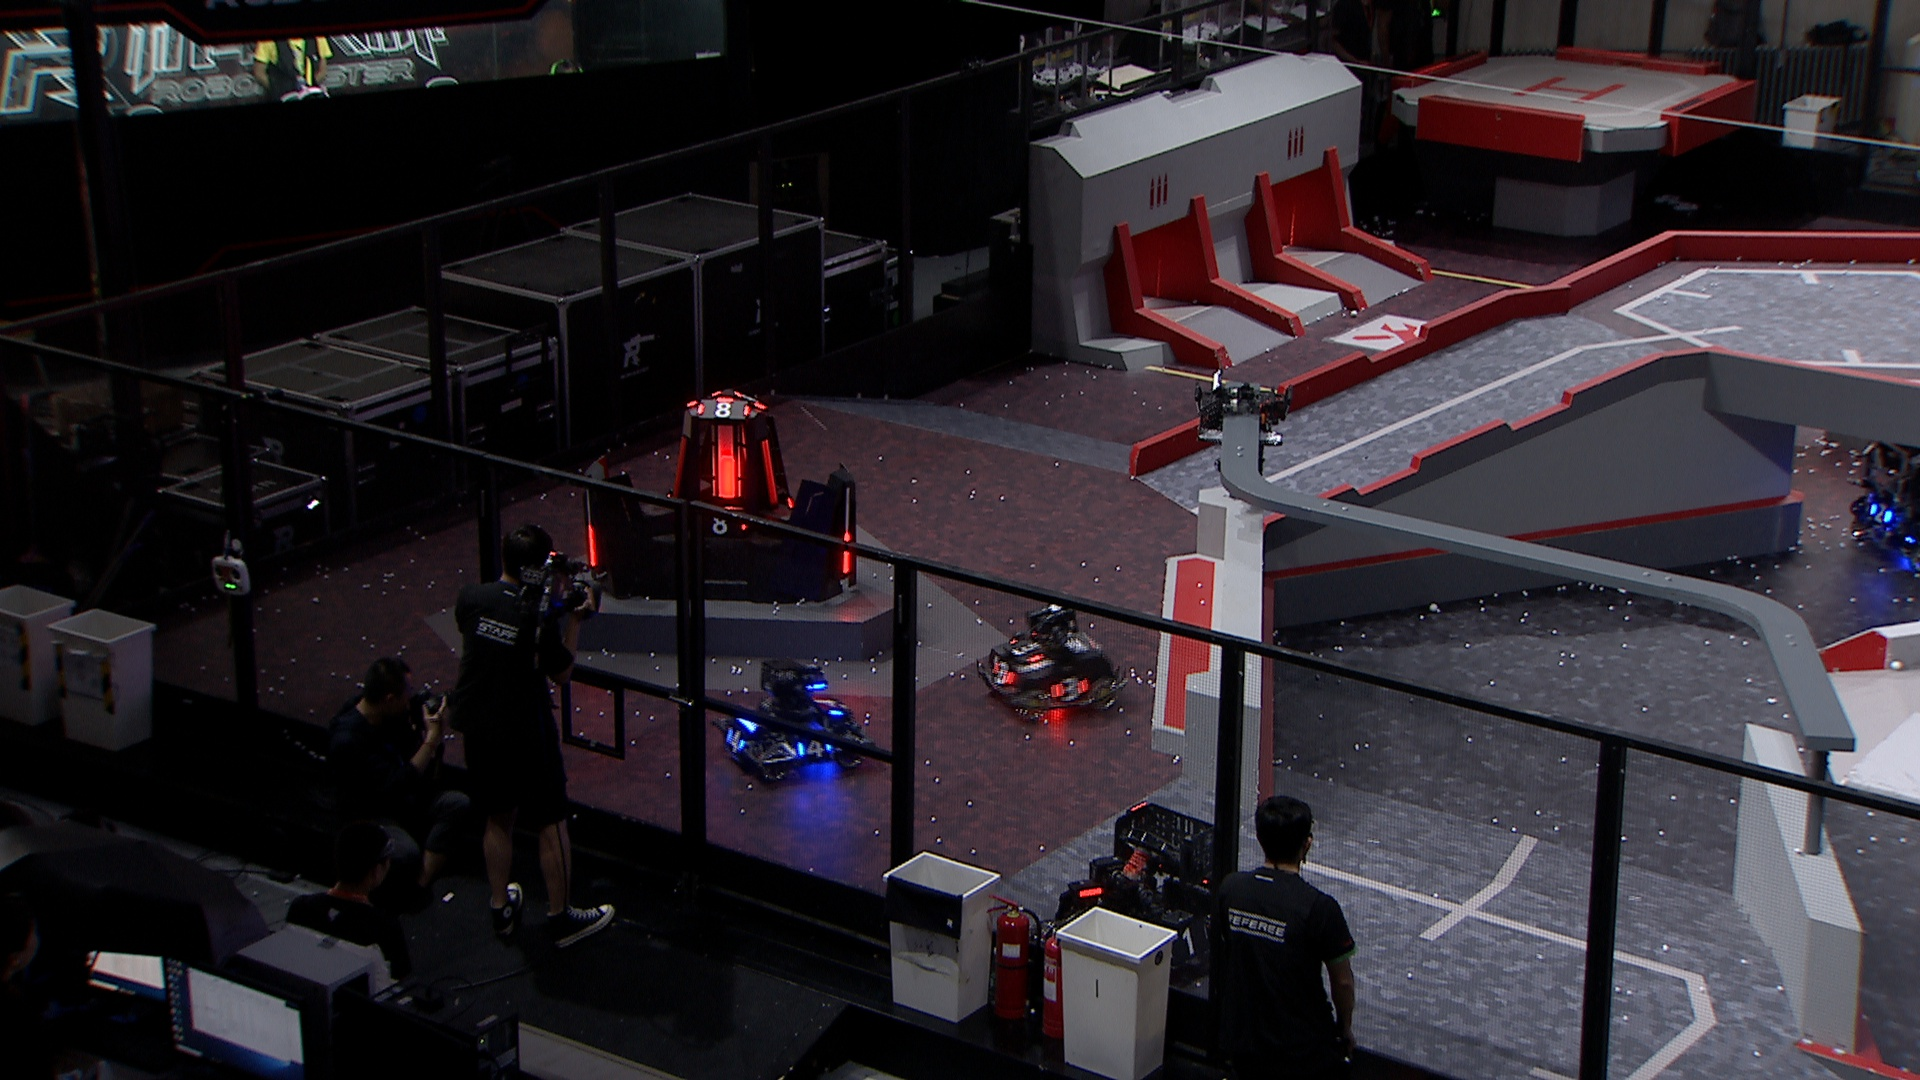armor: (1168, 920, 1212, 957), (713, 455, 741, 501), (760, 438, 778, 506), (699, 514, 746, 535), (670, 433, 684, 500), (695, 400, 746, 418), (1010, 632, 1043, 659), (1050, 678, 1087, 699), (814, 694, 841, 719), (989, 659, 1011, 687), (796, 737, 829, 756), (584, 522, 596, 568), (1866, 500, 1894, 520), (724, 727, 744, 752), (841, 531, 852, 576)
base: (582, 382, 864, 603)
car: (1044, 799, 1244, 986), (713, 651, 868, 778), (975, 608, 1129, 723), (1840, 423, 1920, 589)
watcher: (1192, 368, 1295, 488)
